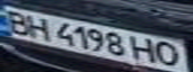1: (69, 24, 87, 49)
4: (51, 19, 75, 47)
8: (106, 29, 130, 58)
9: (84, 26, 106, 53)
B: (0, 8, 36, 35)
H: (21, 12, 54, 41), (130, 35, 160, 63)
O: (151, 39, 184, 69)
